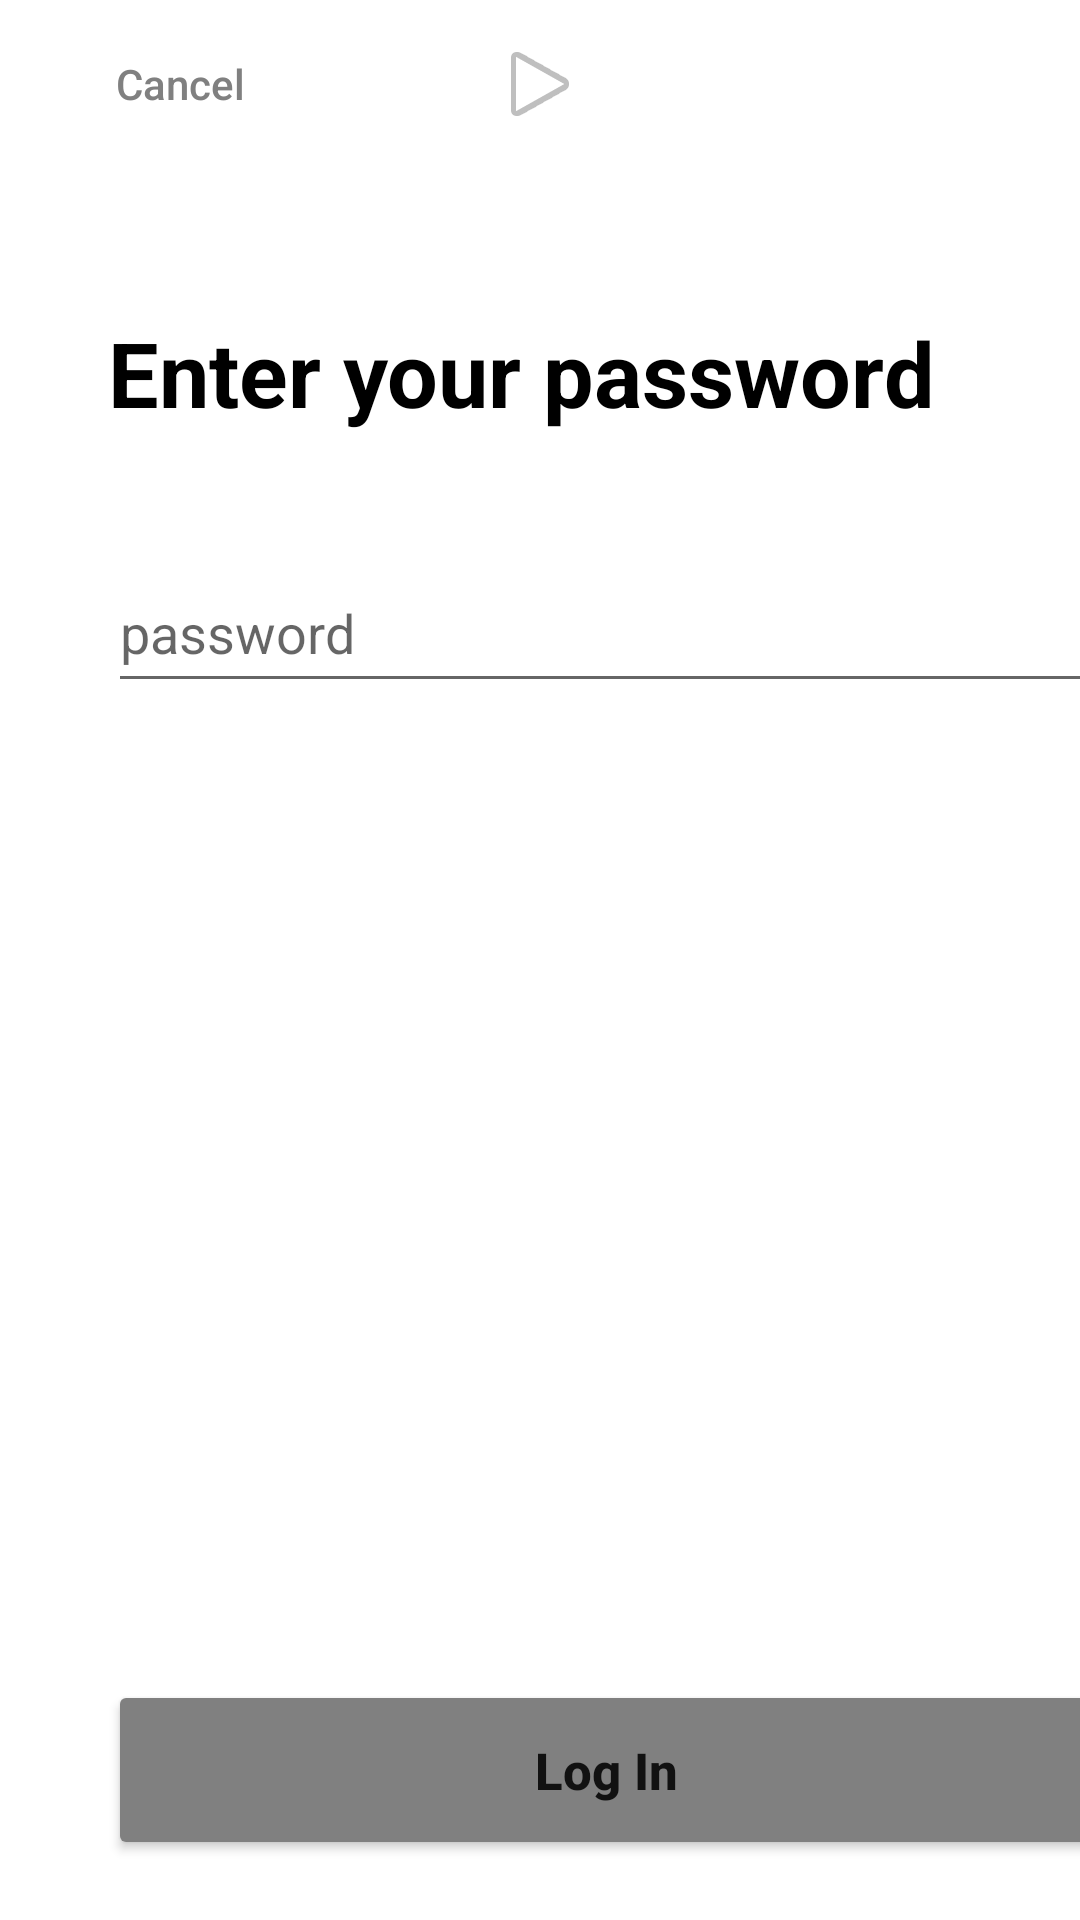

Screen size 1080px x 1920px. Icon name, then its box in pixels as box(x1, y1, x2, y2):
play: box(511, 52, 569, 116)
